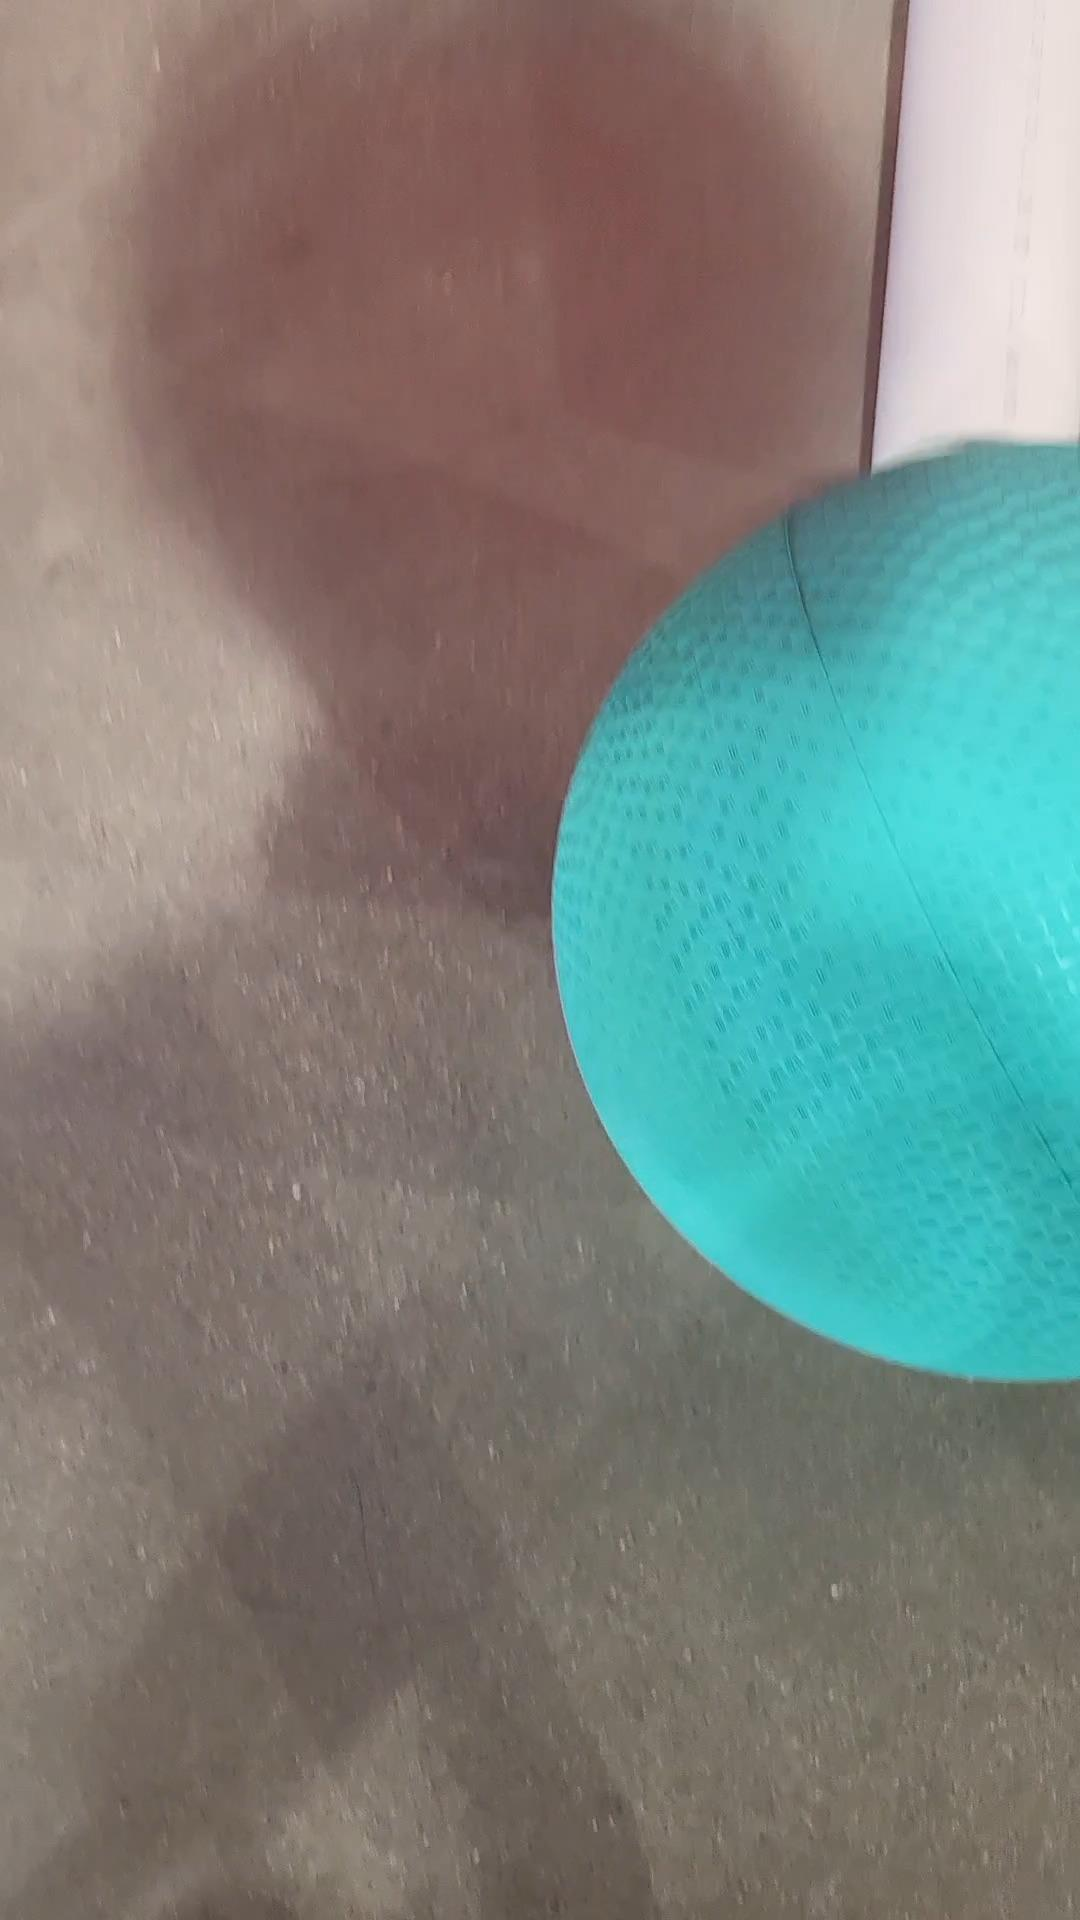algae: (530, 436, 1079, 1400)
